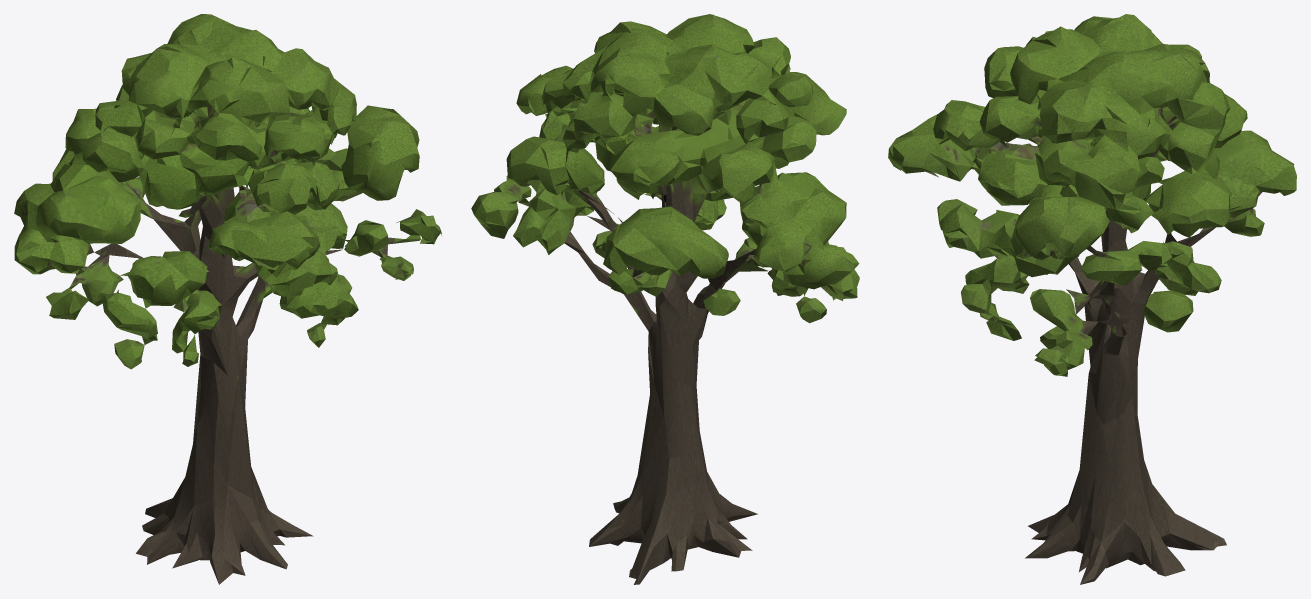
The model's file is tree_broadleaf_mid.glb.
3 views of the same model, side by side, from view 1: azimuth 30°, elevation 25°; view 2: azimuth 150°, elevation 25°; view 3: azimuth 270°, elevation 25° (orthographic).
Visible parts, largest first — view 1: output_unwrapped; view 2: output_unwrapped; view 3: output_unwrapped.
Part boxes in pixels (x1=…): output_unwrapped: x1=14, y1=14, x2=441, y2=584; output_unwrapped: x1=471, y1=14, x2=859, y2=584; output_unwrapped: x1=888, y1=14, x2=1296, y2=584.
Size of the model in its own units: 1.51 by 1.88 by 1.34.
Materials: 1 (1 with a texture image).
